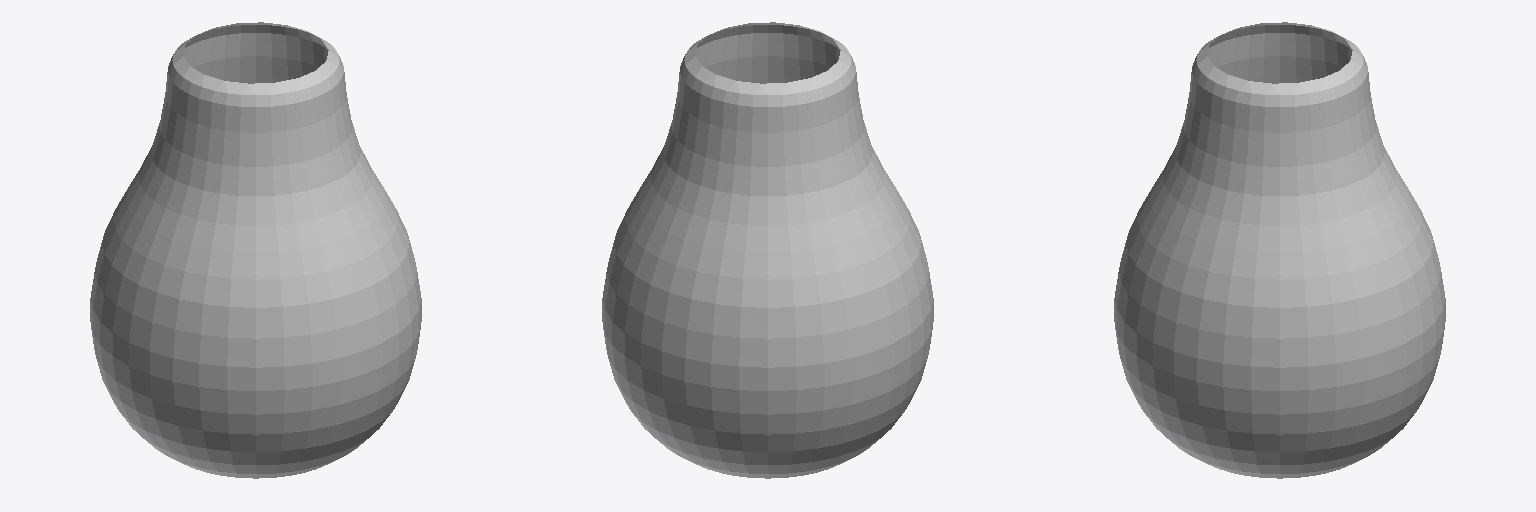
Rendered from FOCO_LAV.obj.
3 renders of one model, left to right at view 1: azimuth 30°, elevation 25°; view 2: azimuth 150°, elevation 25°; view 3: azimuth 270°, elevation 25°, orthographic.
Visible parts, largest first — view 1: FOCOS.002; view 2: FOCOS.002; view 3: FOCOS.002.
Part boxes in pixels (x1,y1,x2,y2): FOCOS.002: (90,22,421,478); FOCOS.002: (602,22,933,478); FOCOS.002: (1114,22,1445,478).
Bounding box in the file's own units: 0.095 × 0.1284 × 0.095.